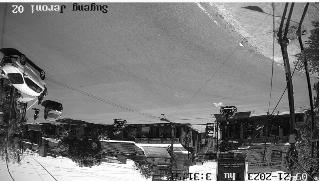mobil: (1, 53, 43, 95), (42, 101, 62, 122)
motor: (217, 102, 241, 124), (111, 115, 129, 133), (36, 84, 46, 108), (31, 104, 39, 122)
